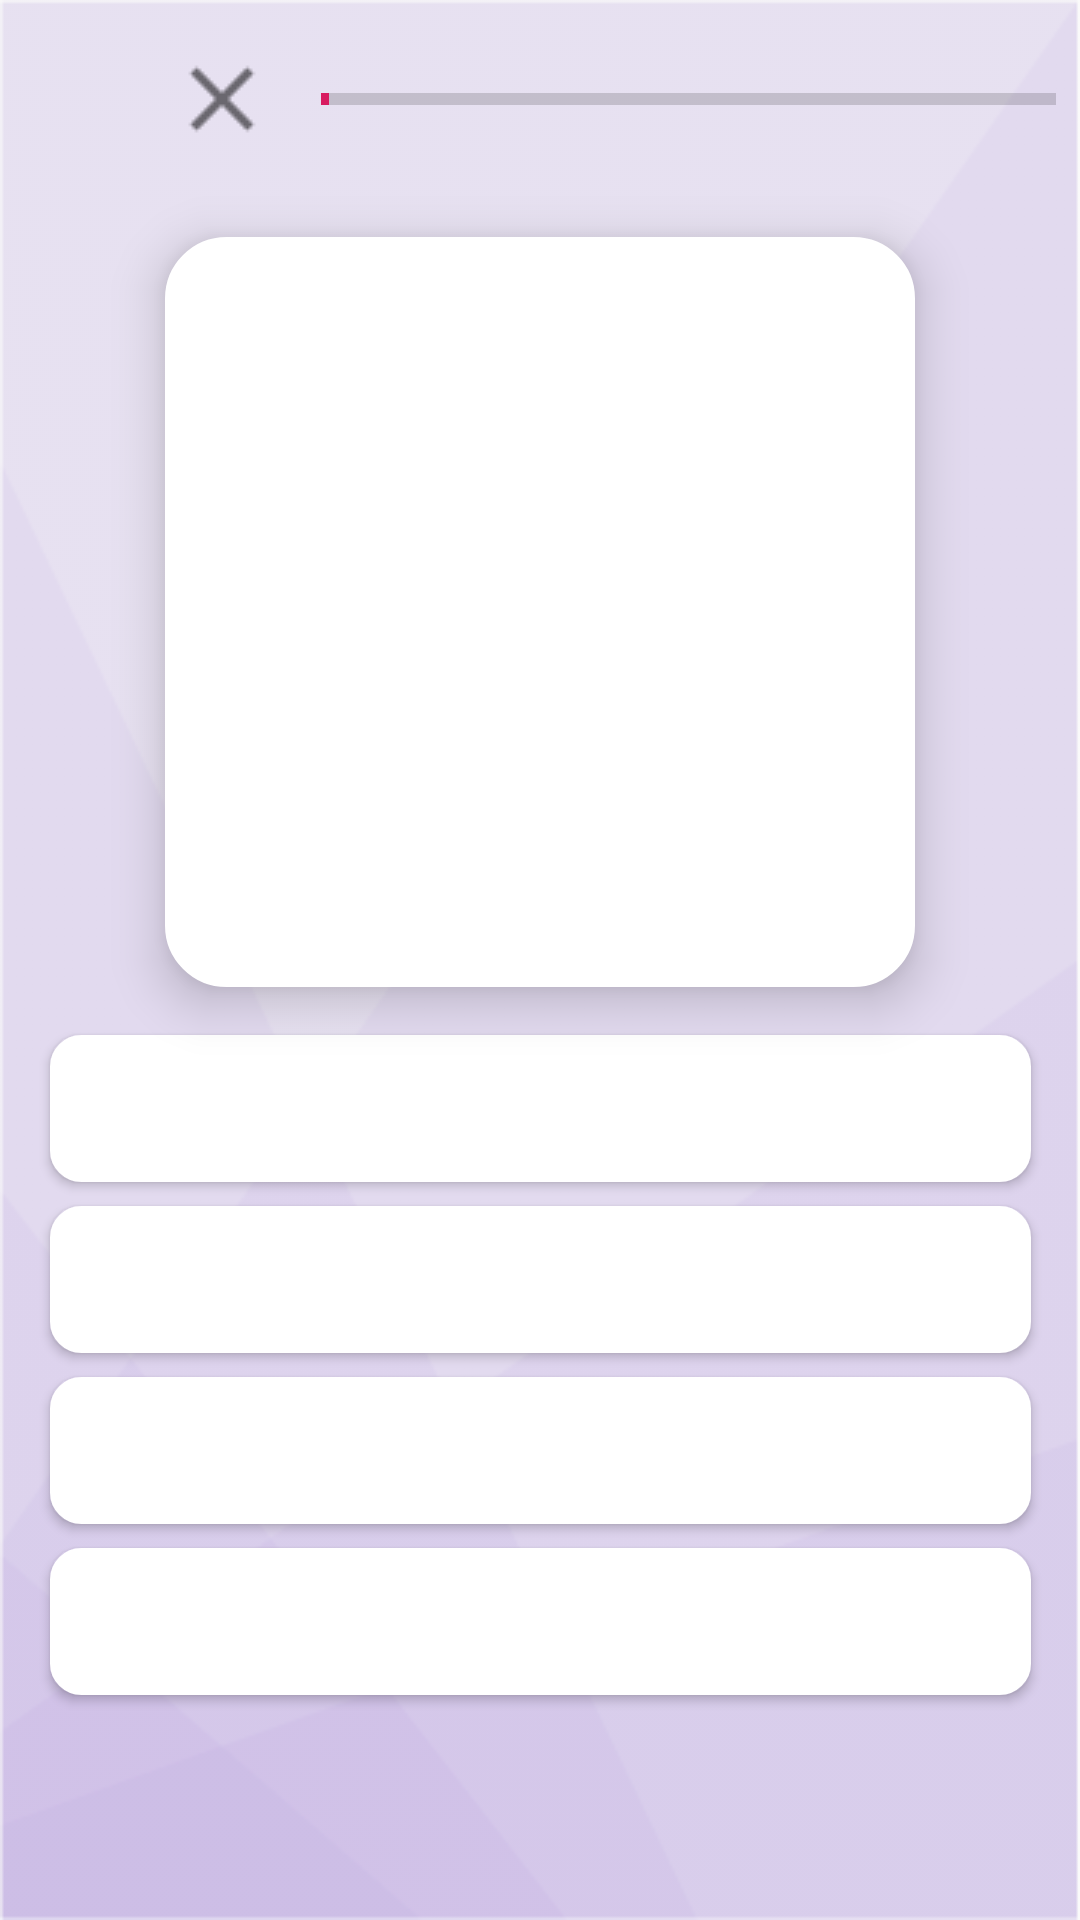

Icons on this 1080px x 1920px Android screen, each with the point to tap as (x,y):
close fragment card: (222,99)
